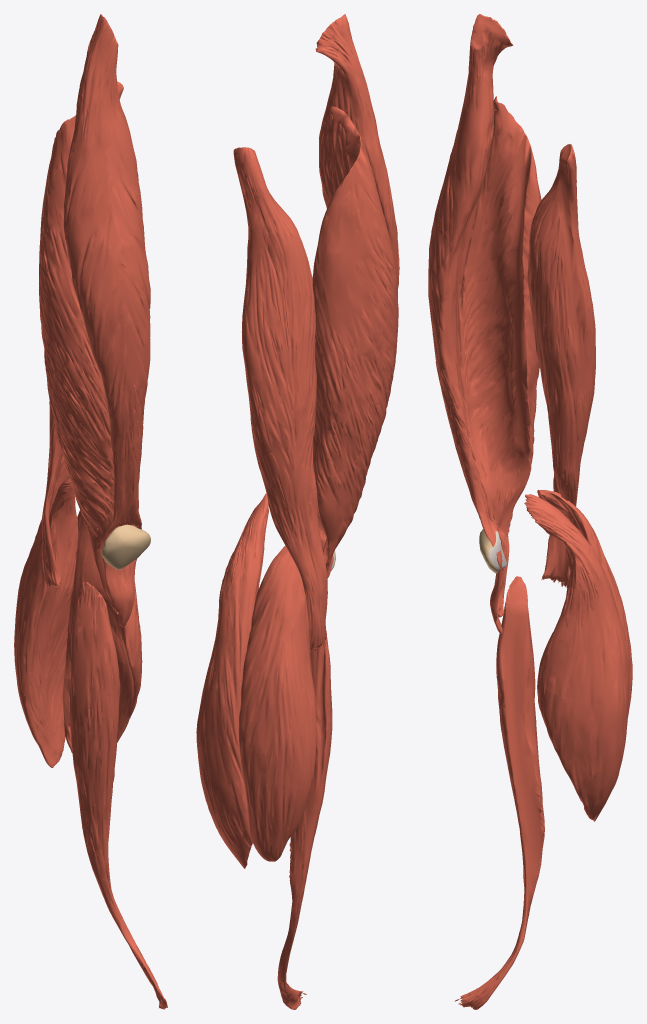
The model's file is leg.glb.
3 views of the same model, side by side, from view 1: azimuth 30°, elevation 25°; view 2: azimuth 150°, elevation 25°; view 3: azimuth 270°, elevation 25° (orthographic). The views are drawn at different scales.
Visible parts, largest first — view 1: muscle_quadriceps_rectus_femoris, muscle_gastrocnemius, muscle_vastus_lateralis, muscle_tibialis_anterior, muscle_hamstrings_biceps_femoris, bone_patella; view 2: muscle_gastrocnemius, muscle_vastus_lateralis, muscle_hamstrings_biceps_femoris, muscle_quadriceps_rectus_femoris, muscle_tibialis_anterior; view 3: muscle_vastus_lateralis, muscle_gastrocnemius, muscle_hamstrings_biceps_femoris, muscle_quadriceps_rectus_femoris, muscle_tibialis_anterior, bone_patella.
Boxes of the visible parts, x1=… form: muscle_quadriceps_rectus_femoris: x1=63, y1=14, x2=150, y2=627; muscle_gastrocnemius: x1=14, y1=478, x2=142, y2=767; muscle_vastus_lateralis: x1=39, y1=115, x2=115, y2=610; muscle_tibialis_anterior: x1=69, y1=582, x2=167, y2=1009; muscle_hamstrings_biceps_femoris: x1=41, y1=81, x2=123, y2=588; bone_patella: x1=101, y1=524, x2=150, y2=569; muscle_gastrocnemius: x1=196, y1=493, x2=316, y2=868; muscle_vastus_lateralis: x1=312, y1=106, x2=398, y2=572; muscle_hamstrings_biceps_femoris: x1=233, y1=147, x2=327, y2=651; muscle_quadriceps_rectus_femoris: x1=315, y1=14, x2=399, y2=578; muscle_tibialis_anterior: x1=277, y1=624, x2=332, y2=1009; muscle_vastus_lateralis: x1=458, y1=96, x2=541, y2=617; muscle_gastrocnemius: x1=524, y1=490, x2=632, y2=821; muscle_hamstrings_biceps_femoris: x1=527, y1=144, x2=595, y2=587; muscle_quadriceps_rectus_femoris: x1=428, y1=14, x2=513, y2=634; muscle_tibialis_anterior: x1=454, y1=576, x2=544, y2=1009; bone_patella: x1=479, y1=529, x2=506, y2=573.
Size of the model in its own units: 0.1242 by 0.8735 by 0.1666.
